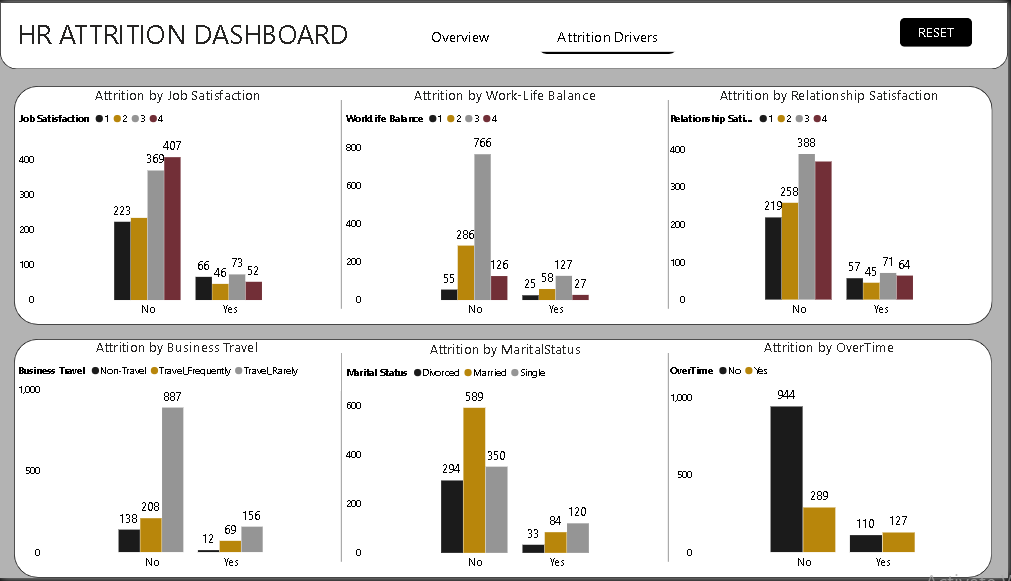

The page's visual inventory and layout, read from the dashboard file:
{"tool":"powerbi","page":{"name":"Attrition Drivers","canvas":[1400,800],"ordinal":1},"visuals":[{"type":"shape","box":[0,0,1400,93.3],"z":0,"group":"g1"},{"type":"shape","box":[19.3,116,1359.1,331.6],"z":0},{"type":"textbox","box":[20,13.3,490,65],"z":1000,"group":"g1"},{"type":"shape","box":[20,468.3,1358.3,331.7],"z":1000},{"type":"group","id":"g1","title":"Group 18","box":[0,0,1400,93.3],"z":2000},{"type":"pageNavigator","box":[541.7,21.7,400,50],"z":2000,"group":"g1"},{"type":"actionButton","box":[1250,21.7,100,40],"z":3000,"group":"g1"},{"type":"clusteredColumnChart","title":" Attrition by Work-Life Balance","fields":{"Category":["WA_Fn-UseC_-HR-Employee-Attrition.Attrition"],"Y":["Count(WA_Fn-UseC_-HR-Employee-Attrition.EmployeeNumber)"],"Series":["WA_Fn-UseC_-HR-Employee-Attrition.WorkLifeBalance"]},"box":[474.3,116,453,331.6],"z":3000},{"type":"clusteredColumnChart","title":"Attrition by OverTime","fields":{"Category":["WA_Fn-UseC_-HR-Employee-Attrition.Attrition"],"Y":["Count(WA_Fn-UseC_-HR-Employee-Attrition.EmployeeNumber)"],"Series":["WA_Fn-UseC_-HR-Employee-Attrition.OverTime"]},"box":[925,466.7,453.3,331.7],"z":4000},{"type":"clusteredColumnChart","title":" Attrition by Business Travel","fields":{"Category":["WA_Fn-UseC_-HR-Employee-Attrition.Attrition"],"Y":["Count(WA_Fn-UseC_-HR-Employee-Attrition.EmployeeNumber)"],"Series":["WA_Fn-UseC_-HR-Employee-Attrition.BusinessTravel"]},"box":[20,466.7,453.3,331.7],"z":5000},{"type":"clusteredColumnChart","title":"Attrition by MaritalStatus","fields":{"Category":["WA_Fn-UseC_-HR-Employee-Attrition.Attrition"],"Y":["Count(WA_Fn-UseC_-HR-Employee-Attrition.EmployeeNumber)"],"Series":["WA_Fn-UseC_-HR-Employee-Attrition.MaritalStatus"]},"box":[475,470,453.3,330],"z":6000},{"type":"clusteredColumnChart","title":"Attrition by Relationship Satisfaction","fields":{"Category":["WA_Fn-UseC_-HR-Employee-Attrition.Attrition"],"Y":["Count(WA_Fn-UseC_-HR-Employee-Attrition.EmployeeNumber)"],"Series":["WA_Fn-UseC_-HR-Employee-Attrition.RelationshipSatisfaction"]},"box":[924.9,116,453.5,331],"z":7000},{"type":"clusteredColumnChart","title":"Attrition by Job Satisfaction","fields":{"Category":["WA_Fn-UseC_-HR-Employee-Attrition.Attrition"],"Y":["Count(WA_Fn-UseC_-HR-Employee-Attrition.EmployeeNumber)"],"Series":["WA_Fn-UseC_-HR-Employee-Attrition.JobSatisfaction"]},"box":[20.8,116,453.5,331.6],"z":8000},{"type":"shape","box":[468.2,136.5,12,290.3],"z":9000},{"type":"shape","box":[468.2,487,12,290.3],"z":11000},{"type":"shape","box":[921.7,487,12,290.3],"z":12000},{"type":"shape","box":[921.7,136.5,12,290.3],"z":13000}]}

Visuals, with their boxes in screenshot pixels (x1, y1, x2, y2), scaled from the page's 1400x800 canvas onto the 1011x581 screenshot:
shape: box(0, 0, 1010, 68)
shape: box(14, 84, 995, 325)
textbox: box(14, 10, 368, 57)
shape: box(14, 340, 995, 580)
"Group 18" group: box(0, 0, 1010, 68)
pageNavigator: box(391, 16, 680, 52)
actionButton: box(903, 16, 975, 45)
" Attrition by Work-Life Balance" clusteredColumnChart: box(343, 84, 670, 325)
"Attrition by OverTime" clusteredColumnChart: box(668, 339, 995, 580)
" Attrition by Business Travel" clusteredColumnChart: box(14, 339, 342, 580)
"Attrition by MaritalStatus" clusteredColumnChart: box(343, 341, 670, 580)
"Attrition by Relationship Satisfaction" clusteredColumnChart: box(668, 84, 995, 325)
"Attrition by Job Satisfaction" clusteredColumnChart: box(15, 84, 343, 325)
shape: box(338, 99, 347, 310)
shape: box(338, 354, 347, 565)
shape: box(666, 354, 674, 565)
shape: box(666, 99, 674, 310)
